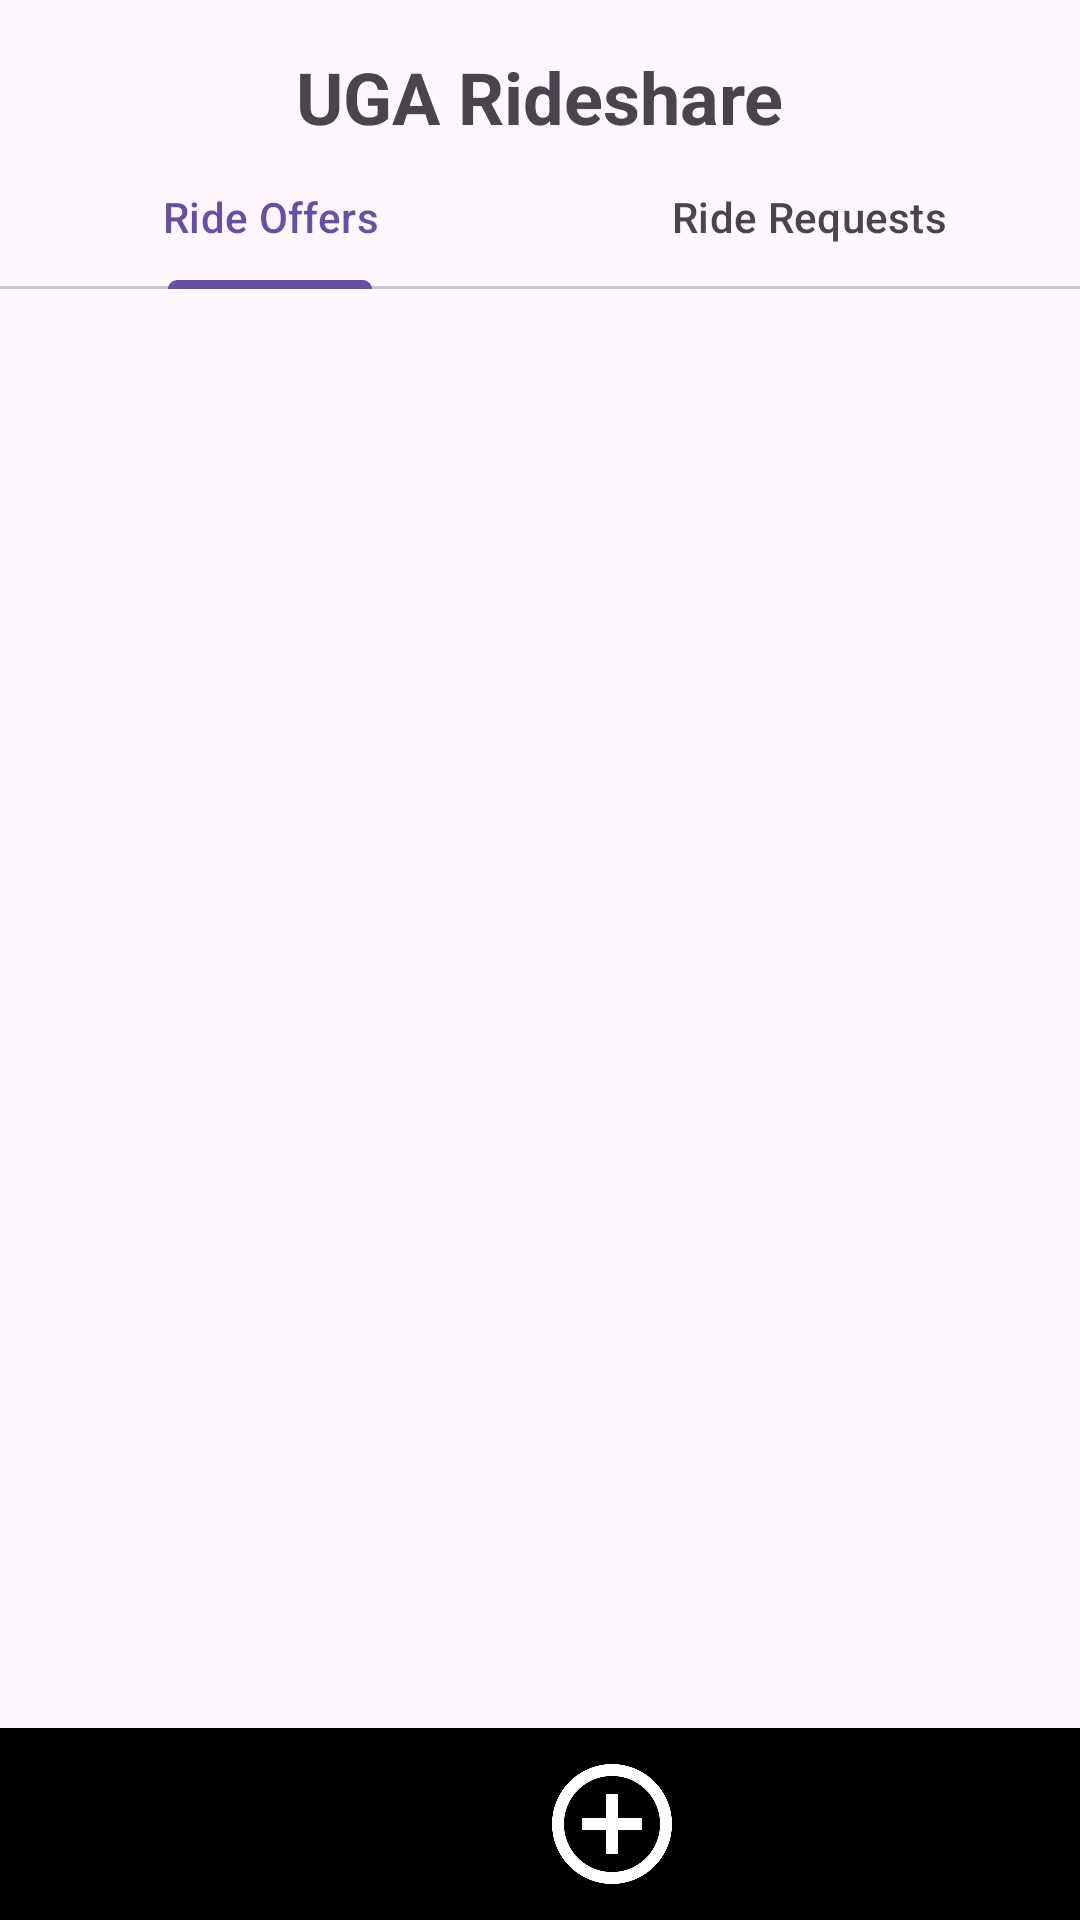

Icons on this 1080px x 1920px Android screen, each with the point to tap as (x=x, y=y):
Add Ride: (x=612, y=1824)
